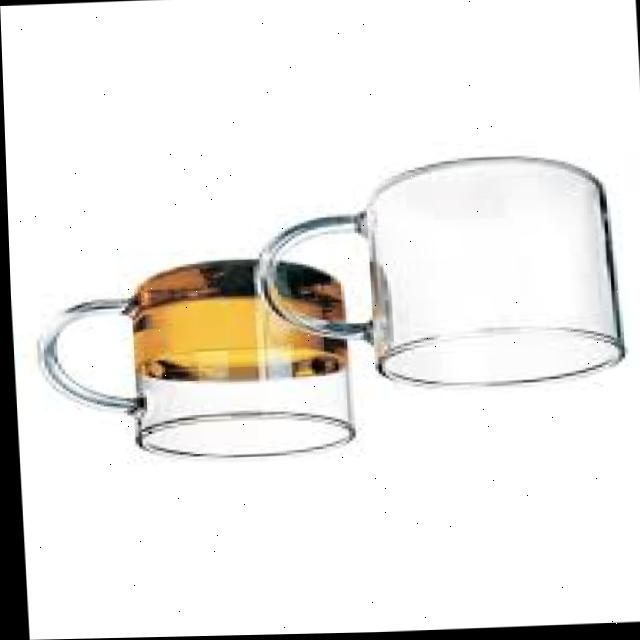Dry: (247, 150, 640, 398), (29, 255, 369, 479)
